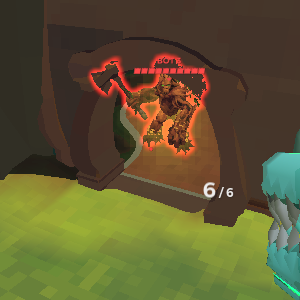model: (116, 53, 210, 163)
